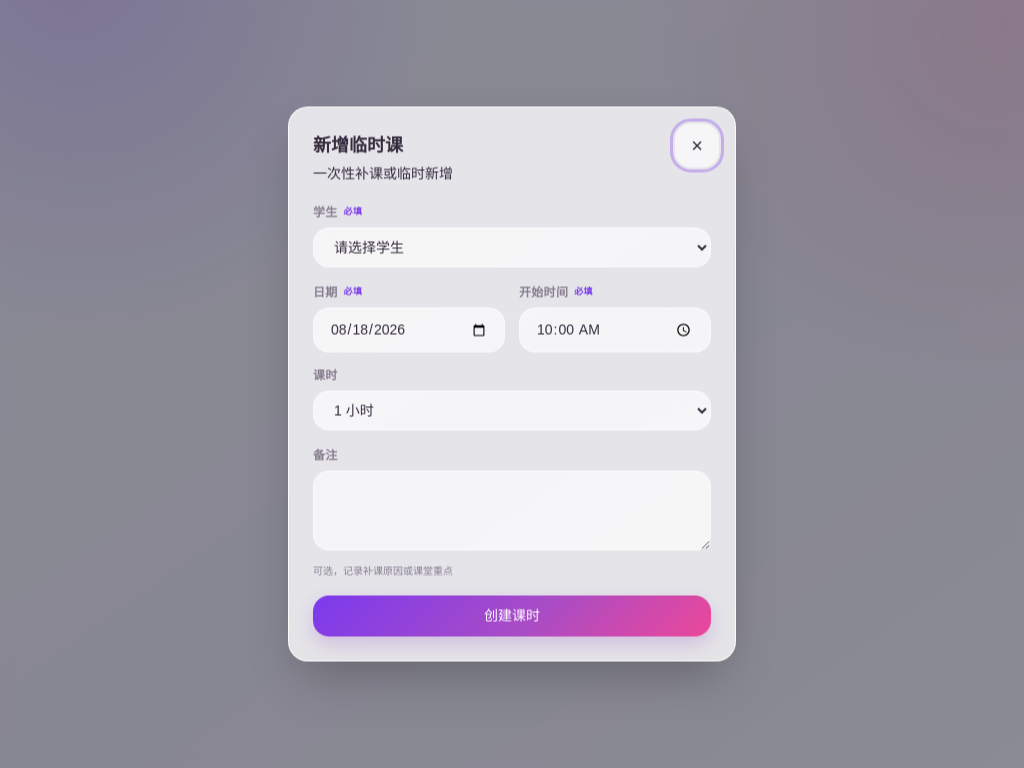
Test: CreateLessonModal › disables closing and the submit action while pending
Select "林沐" in the dropdown with id "create-lesson-student" at (512, 248), box [313,228,711,268]
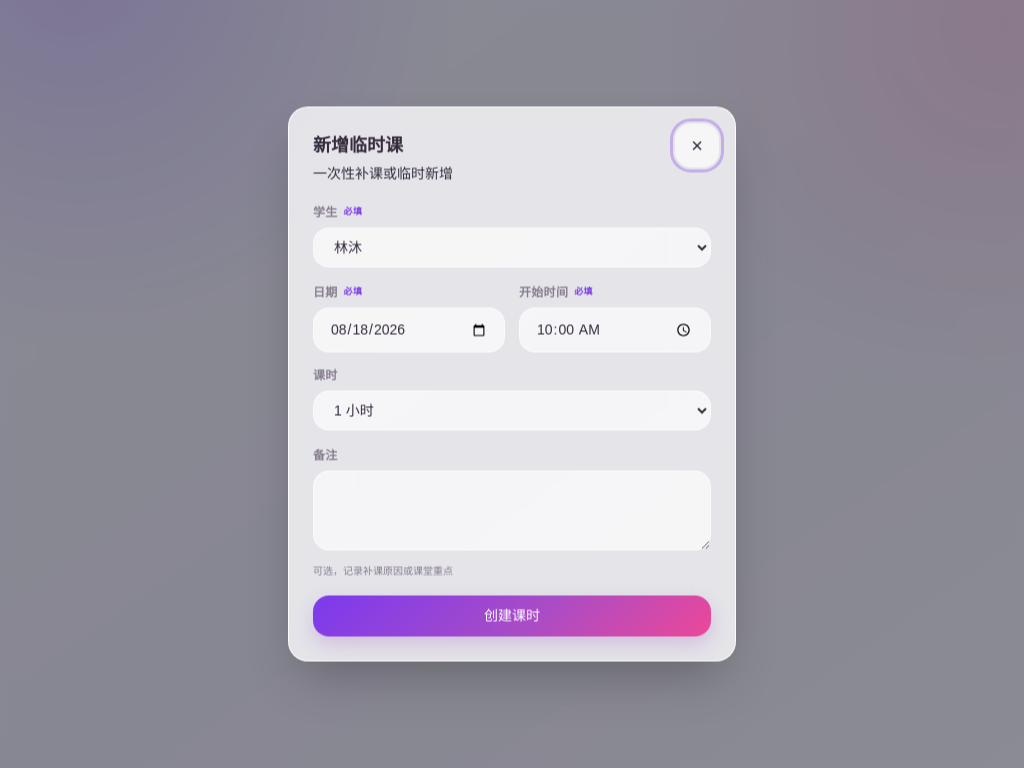
Submit the form, box [313,204,711,636]
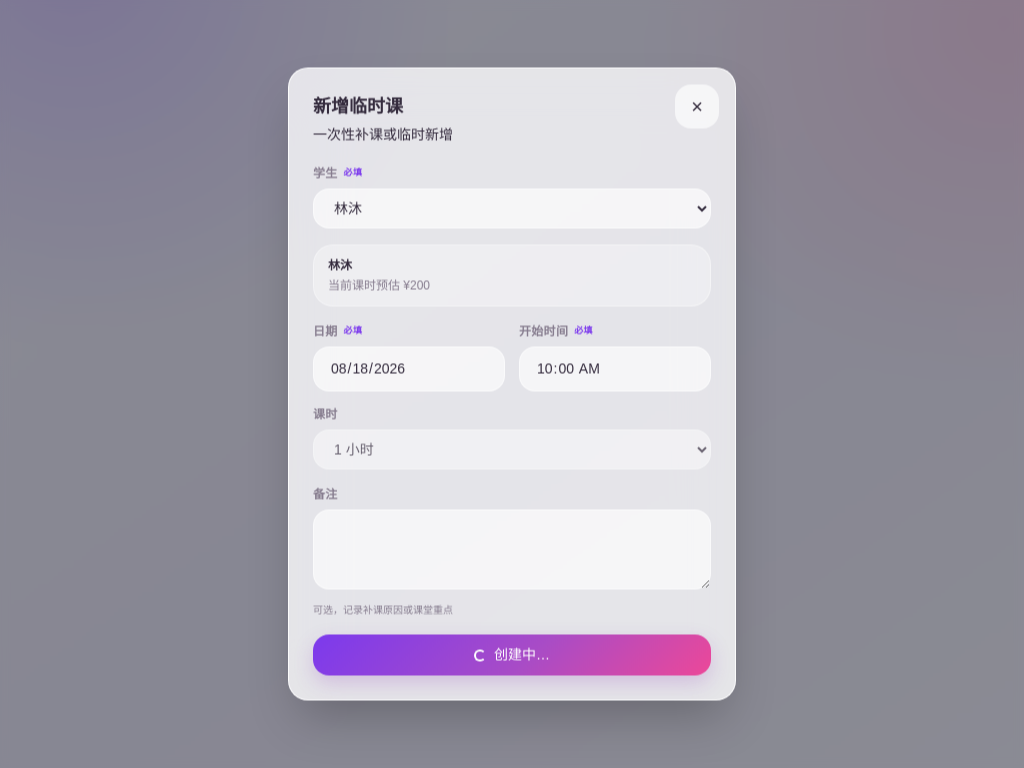
Check: the button "×" is disabled, box [675,84,719,128]
Check: the button "创建中…" is disabled, box [313,634,711,676]
